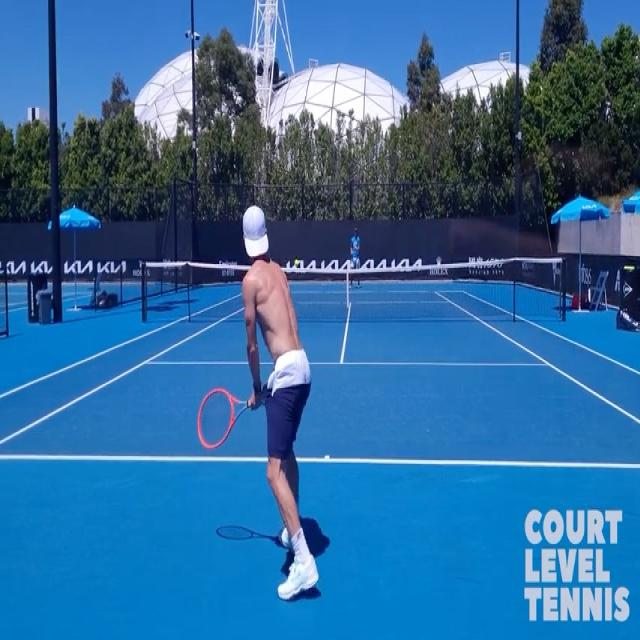backhand-ready: (197, 203, 319, 602)
